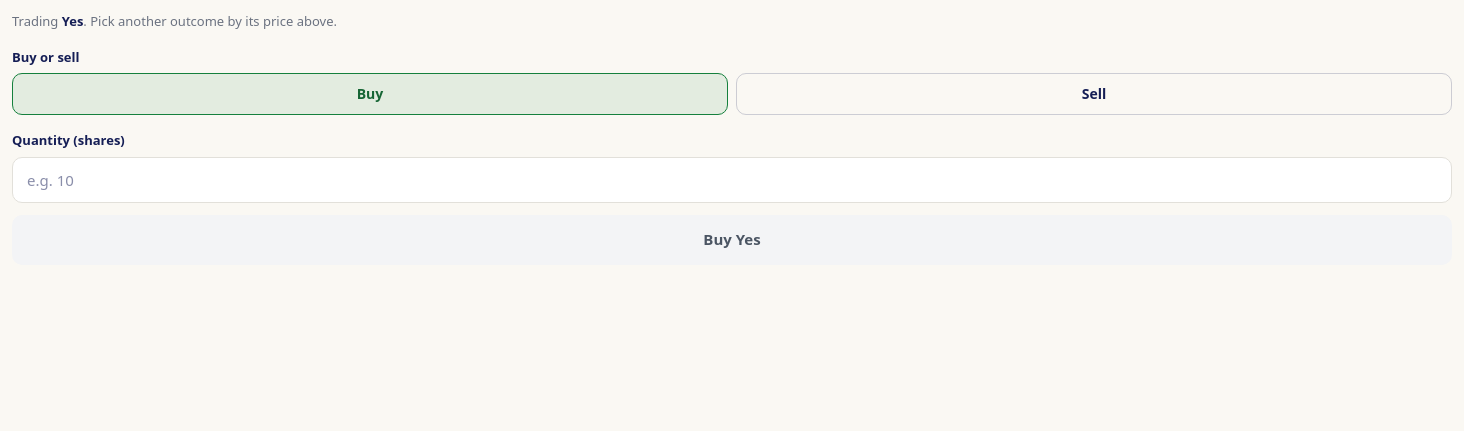
TradingPanel › shows an average price above 1.0000 on a skewed book, not clamped to a percentage
The image size is (1464, 431).
Step 1. Type "10" into the number field labelled "Quantity (shares)" → (732, 180), box [12,156,1452,202]
Wait 300 ms
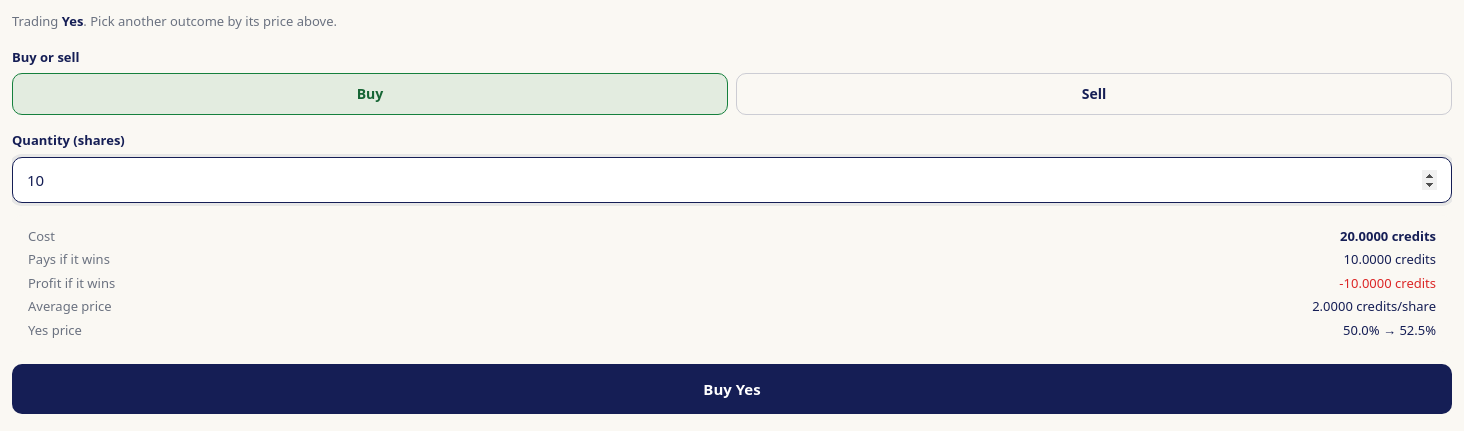
Now the element named "trade preview" shows "2.0000", box [1312,297,1353,315]
